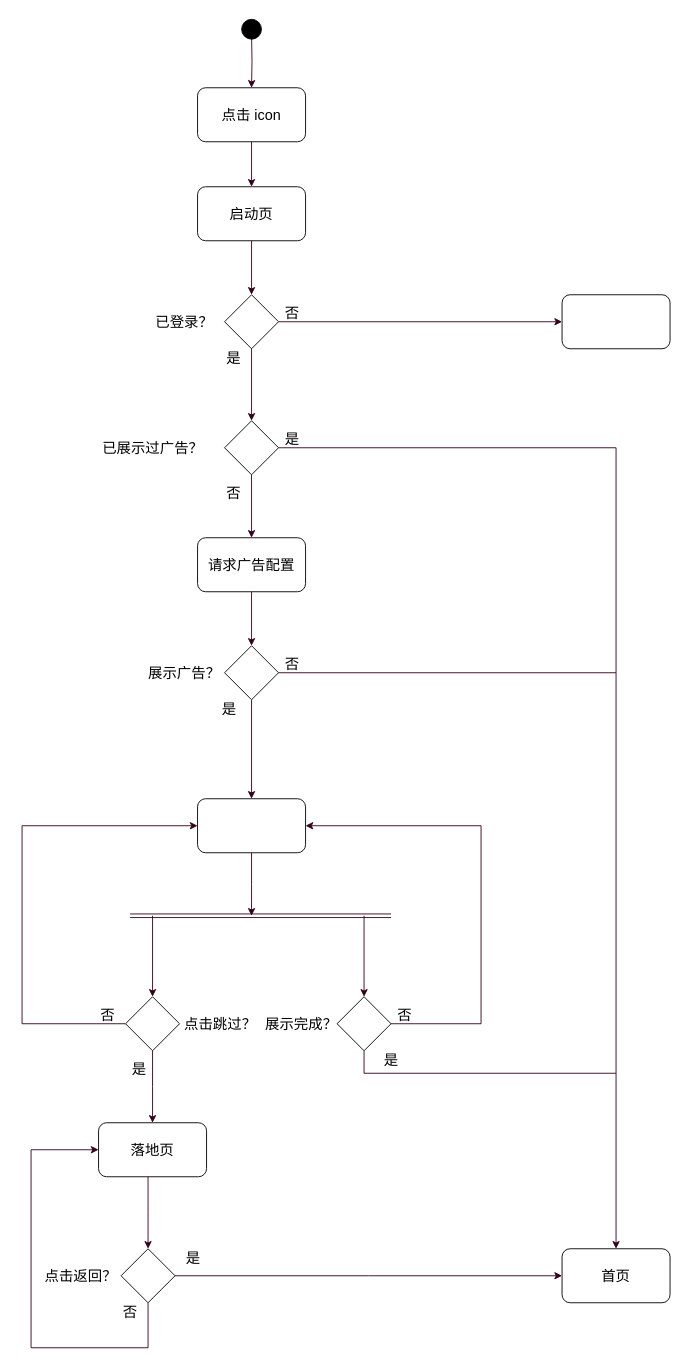
Some shapes in this 686 by 1371 pixel diagram are drawn without their labels. The centre of each missing label's shape, as x and y in pixels:
广告页: (251,825)
登录页: (615,321)
